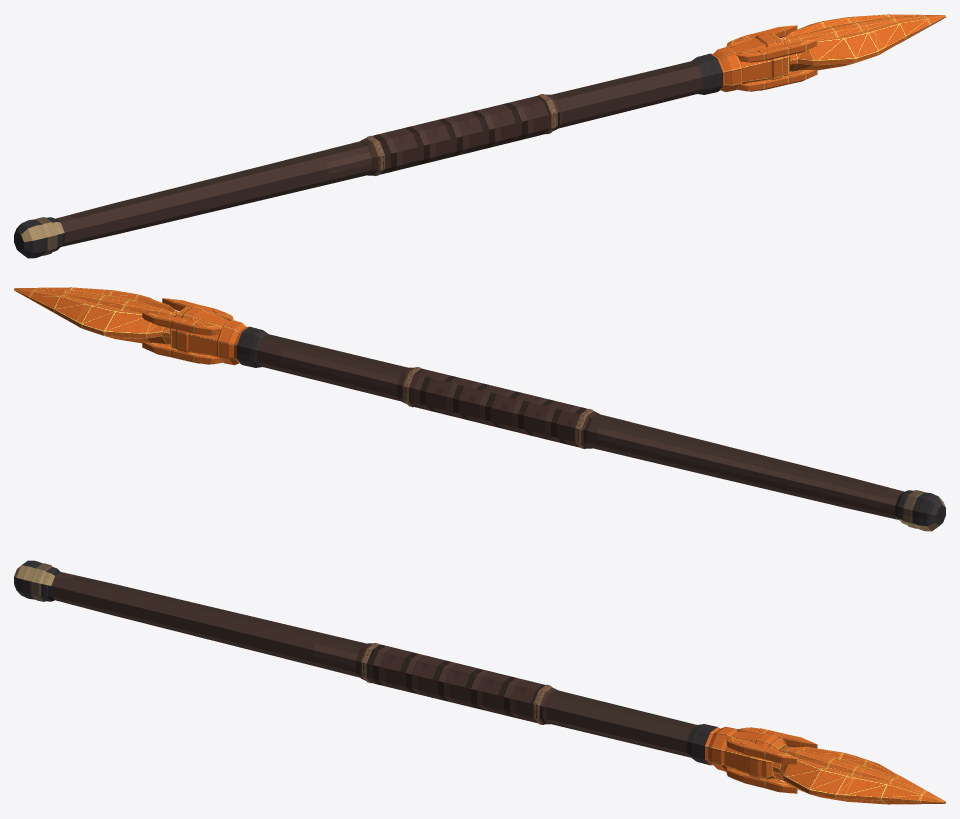
The model's file is bench_xuantie_spear_5_hot.obj.
The picture shows the model from 3 angles, top to bottom: view 1: azimuth 30°, elevation 25°; view 2: azimuth 150°, elevation 25°; view 3: azimuth 330°, elevation 25°; orthographic projection.
Parts seen in each view (by area): view 1: geometry; view 2: geometry; view 3: geometry.
Boxes of the visible parts, x1=… form: geometry: x1=14, y1=14, x2=945, y2=258; geometry: x1=14, y1=287, x2=945, y2=531; geometry: x1=14, y1=560, x2=945, y2=804.
Size of the model in its own units: 0.75 by 0.0338 by 0.065.
